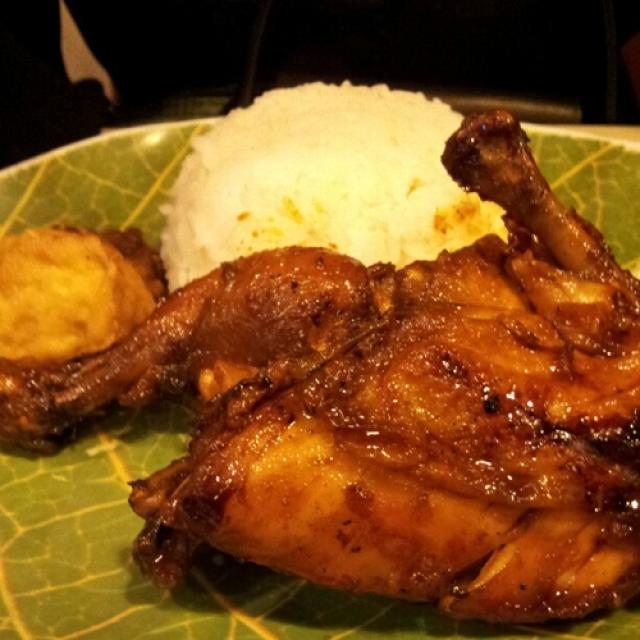鸡肉料理 含炸鸡: (5, 52, 617, 616)
